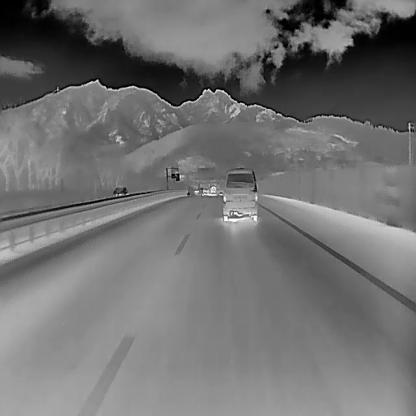car: (218, 167, 257, 221), (113, 186, 128, 198), (201, 184, 210, 196), (208, 184, 216, 195)
